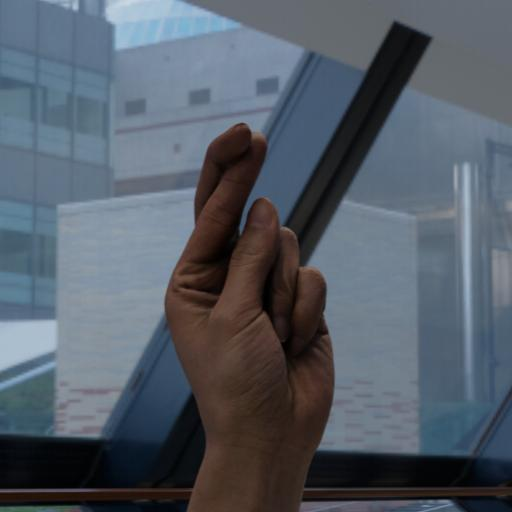R: (159, 117, 340, 452)
